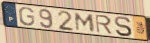2: (57, 10, 75, 32)
9: (38, 8, 55, 29)
G: (18, 6, 36, 27)
M: (74, 12, 96, 33)
R: (94, 14, 114, 35)
S: (114, 16, 134, 38)
